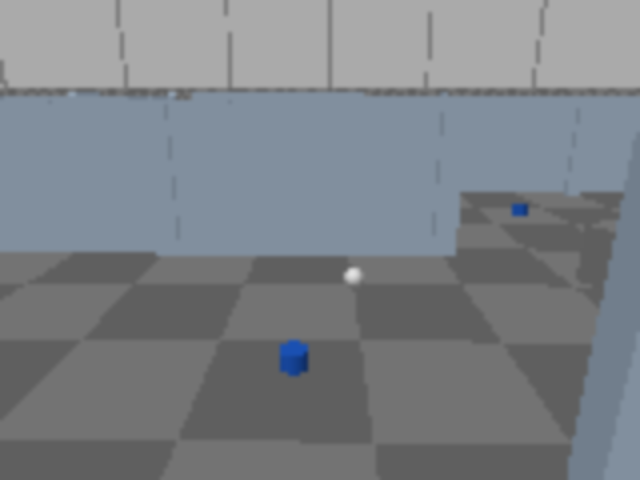puck: (280, 341, 309, 374), (341, 265, 367, 292)
